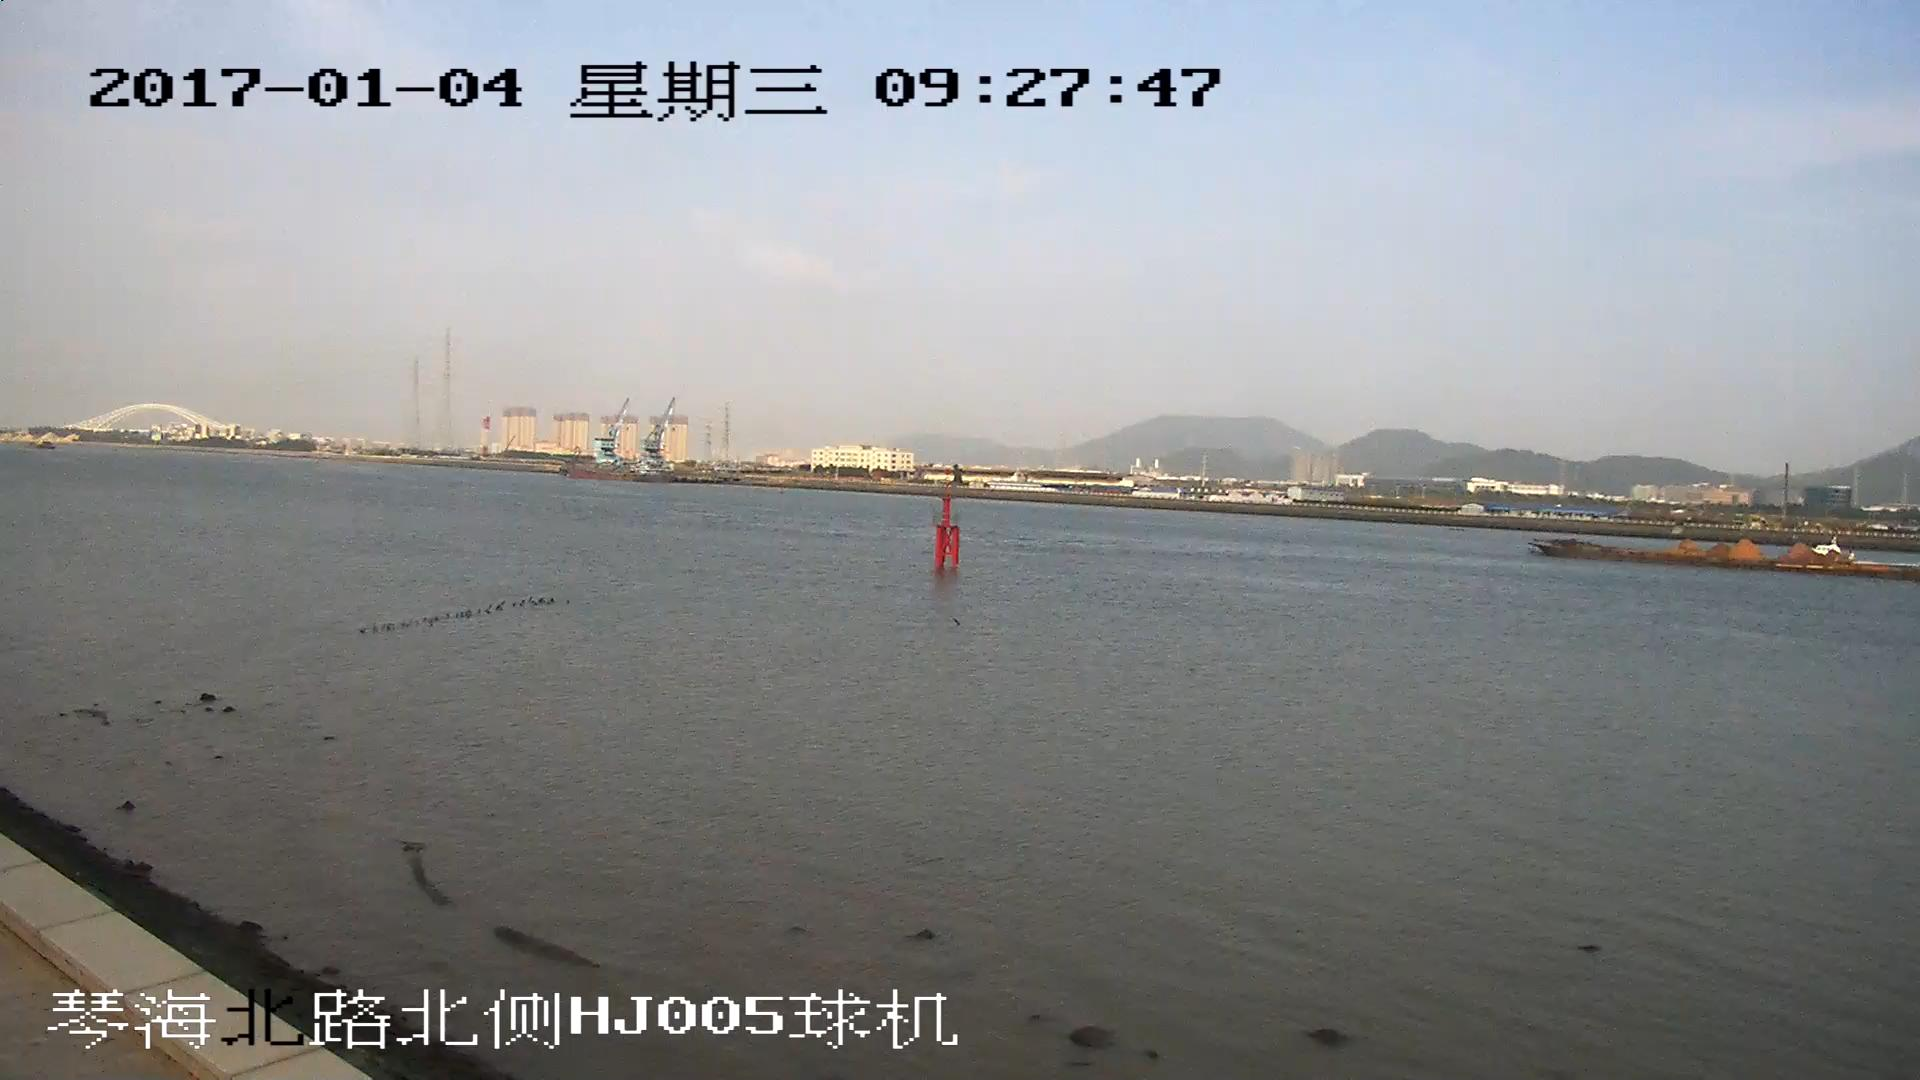ore carrier: (1529, 537, 1920, 583)
